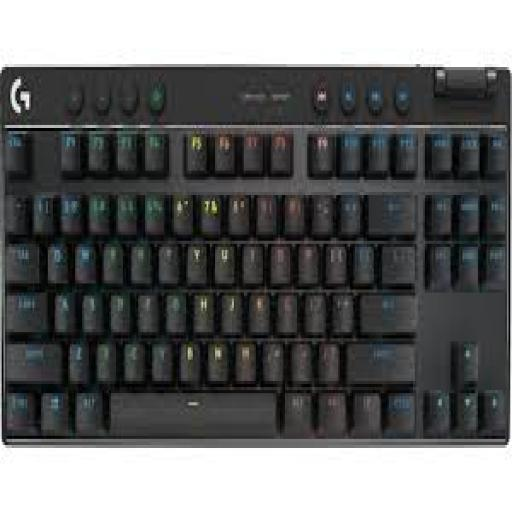keyboard: (0, 70, 510, 445)
